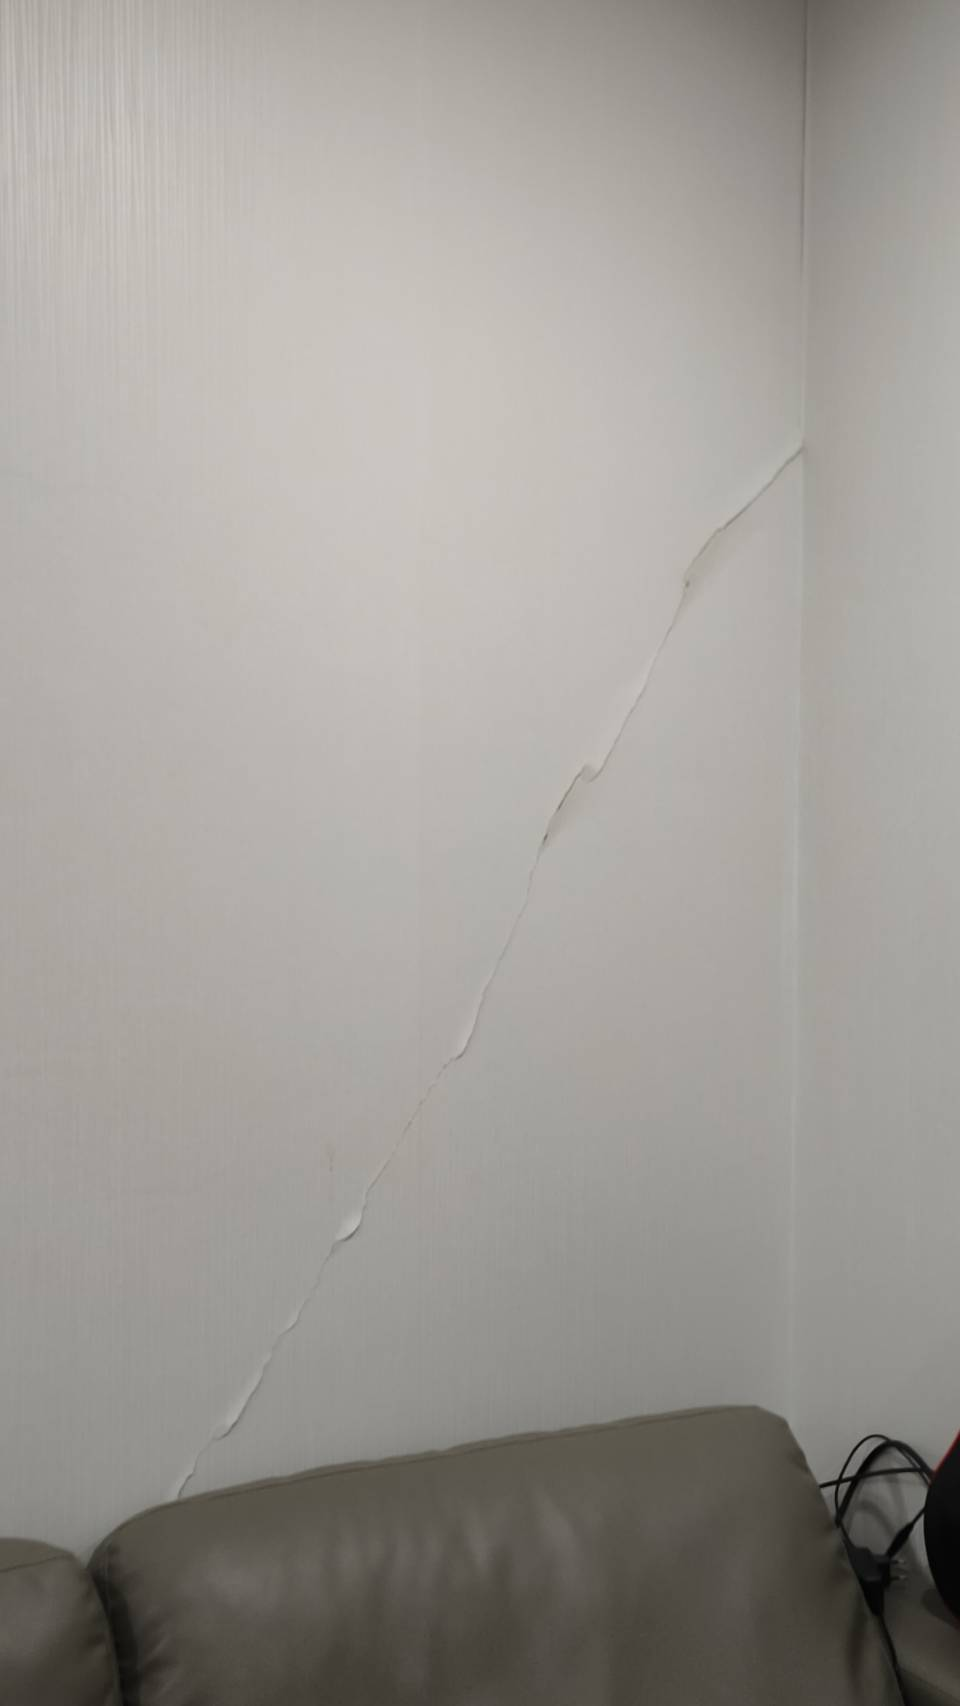Low: (142, 367, 859, 1496)
